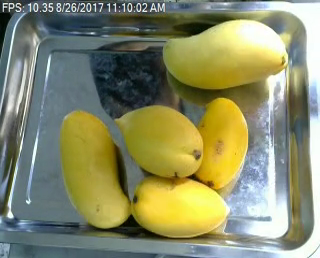Mango: (157, 14, 289, 91), (62, 108, 133, 231), (127, 170, 234, 242), (119, 102, 206, 180), (190, 93, 251, 192)
